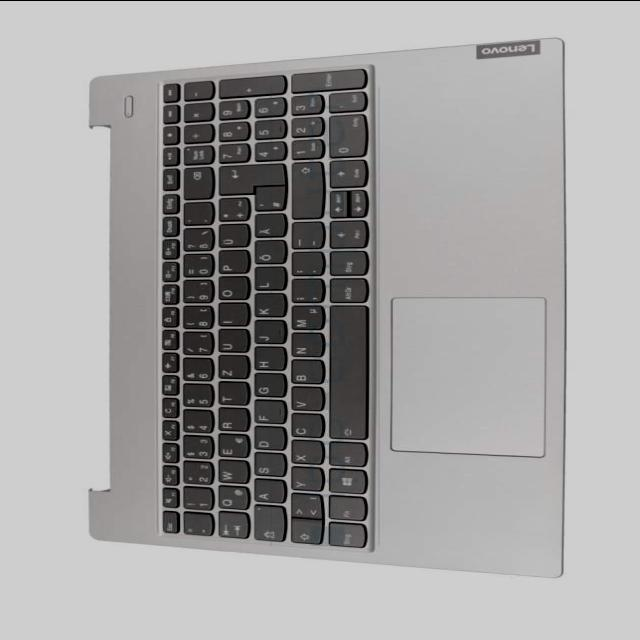0: (179, 255, 211, 279)
1: (179, 488, 211, 512)
2: (179, 462, 211, 486)
3: (179, 436, 211, 460)
4: (179, 411, 211, 435)
5: (179, 385, 211, 409)
6: (179, 359, 211, 383)
7: (179, 333, 211, 357)
8: (179, 307, 211, 331)
9: (179, 281, 211, 305)
a: (250, 480, 284, 504)
accent: (180, 203, 212, 227)
ae: (251, 215, 285, 239)
alt-left: (325, 443, 365, 469)
altgr-right: (326, 280, 366, 305)
b: (287, 361, 322, 386)
c: (287, 414, 322, 440)
caret: (179, 513, 211, 537)
comma: (287, 280, 322, 304)
d: (251, 428, 284, 452)
del: (179, 168, 212, 201)
e: (214, 435, 247, 459)
enter: (214, 165, 284, 196)
f: (251, 402, 284, 426)
g: (251, 375, 284, 399)
h: (251, 347, 285, 372)
hash: (251, 188, 284, 212)
i: (215, 304, 247, 328)
j: (251, 321, 284, 346)
k: (251, 294, 285, 319)
keyboard: (150, 63, 380, 555)
l: (251, 268, 285, 292)
less: (286, 494, 320, 520)
m: (288, 306, 322, 332)
minus: (288, 223, 321, 252)
n: (287, 333, 322, 358)
o: (215, 278, 247, 302)
oe: (251, 241, 285, 266)
p: (215, 251, 248, 275)
plus: (215, 199, 248, 223)
point: (287, 252, 322, 278)
q: (214, 487, 247, 511)
r: (215, 409, 247, 433)
s: (251, 454, 284, 478)
shift-left: (286, 521, 320, 546)
shift-lock: (250, 506, 284, 543)
shift-right: (286, 163, 321, 221)
space: (326, 306, 366, 442)
ss: (180, 229, 211, 253)
strg-left: (325, 524, 365, 550)
strg-right: (326, 252, 366, 277)
t: (214, 383, 247, 407)
tab: (214, 513, 247, 540)
u: (215, 330, 247, 354)
ue: (215, 225, 248, 249)
v: (287, 388, 322, 413)
w: (214, 461, 247, 485)
x: (287, 441, 322, 466)
y: (287, 467, 321, 492)
z: (215, 356, 247, 380)
